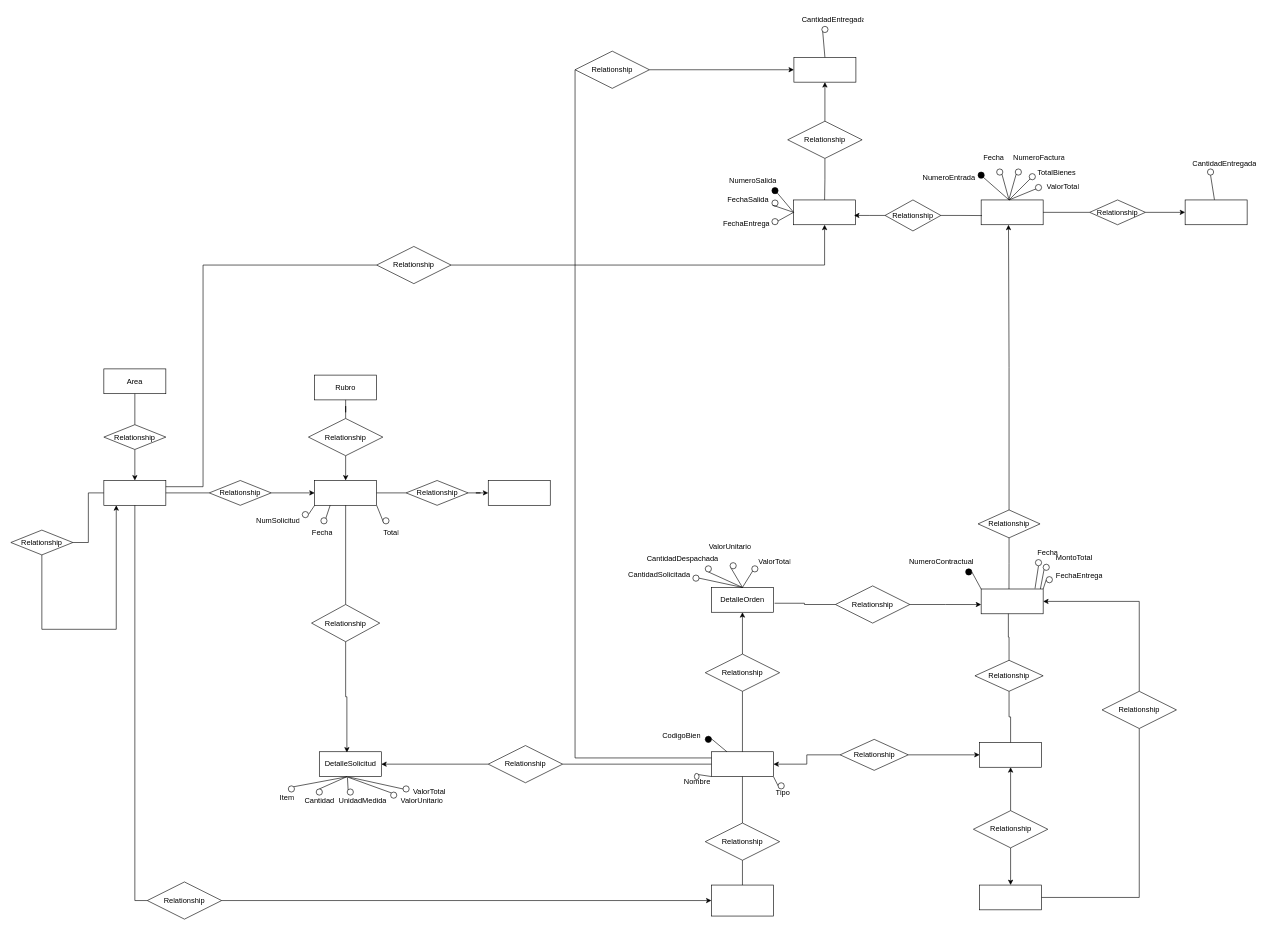
Image size: 1274x930. Some labels were removed from this diagram. Each missing label, with the centre of its shape:
"Bien" belongs at point (742, 764).
"CentroCostos" belongs at point (519, 492).
"Cotizacion" belongs at point (1010, 754).
"DetalleEntrada" belongs at point (1216, 212).
"DetalleSalida" belongs at point (824, 69).
"Empleado" belongs at point (134, 492).
"EntradaAlmacen" belongs at point (1012, 212).
"Inventario" belongs at point (742, 900).
"OrdenContractual" belongs at point (1012, 601).
"Proveedor" belongs at point (1010, 897).
"SalidaAlmacen" belongs at point (824, 212).
"Solicitud" belongs at point (345, 492).
